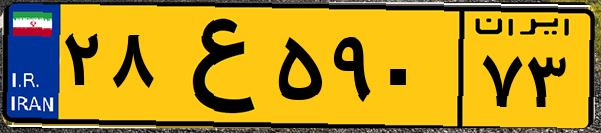0: (385, 28, 445, 110)
2: (57, 26, 110, 100)
3: (525, 38, 570, 115)
5: (270, 28, 330, 110)
7: (475, 38, 525, 113)
8: (110, 28, 158, 98)
9: (330, 28, 385, 110)
ع: (158, 12, 270, 120)
